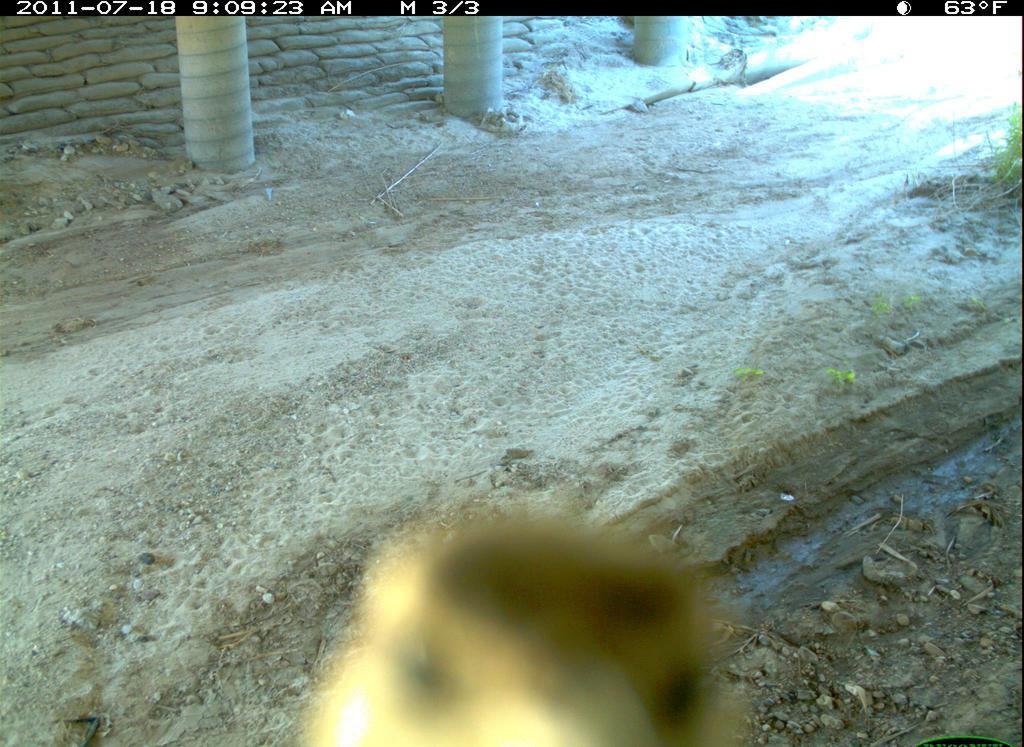bird: (268, 491, 786, 747)
